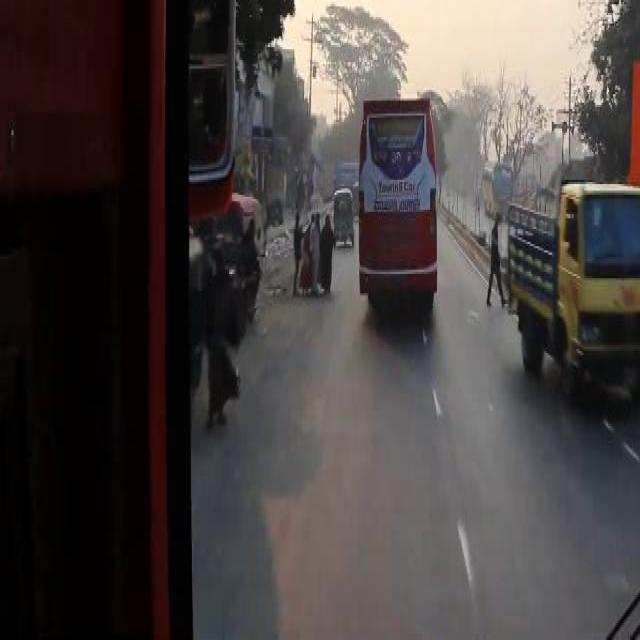vehicle: (509, 179, 640, 386), (357, 97, 441, 305), (218, 191, 268, 328), (482, 160, 514, 212), (334, 191, 355, 246)
